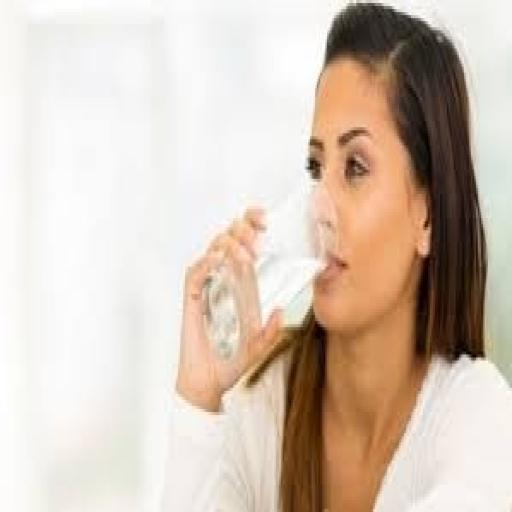drinking: (200, 191, 327, 360)
